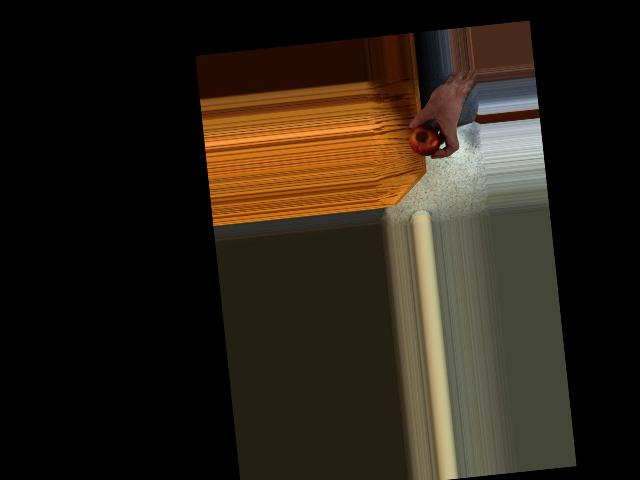apple: (406, 117, 441, 157)
